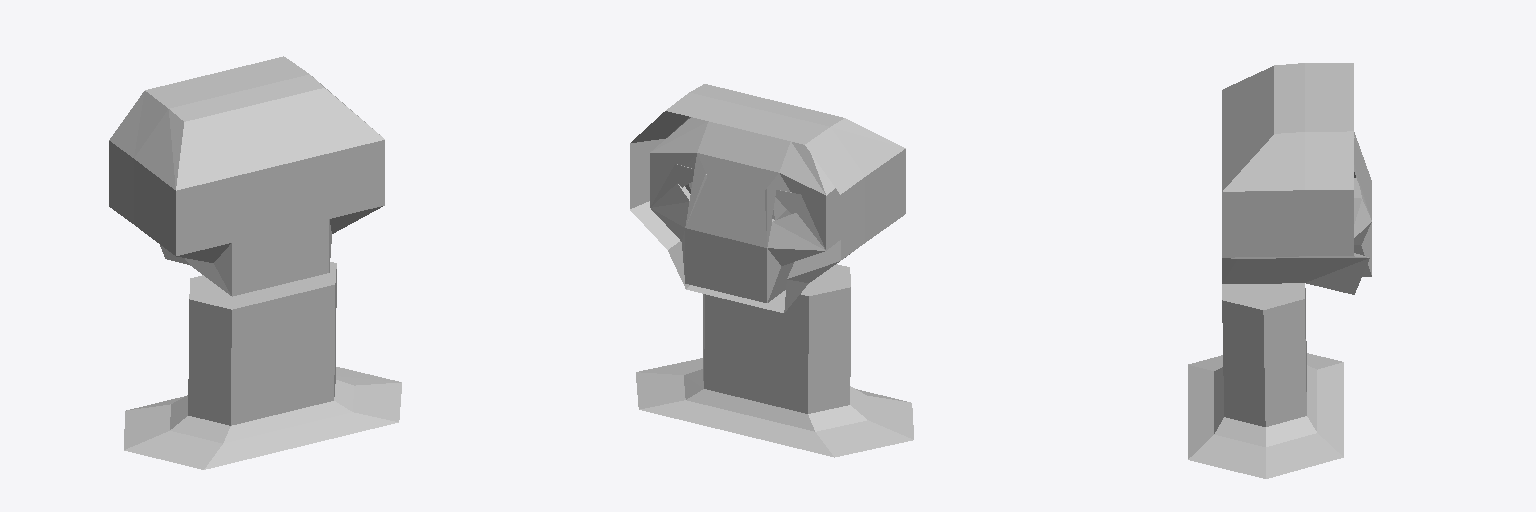
The model's file is Player.obj.
3 renders of one model, left to right at view 1: azimuth 30°, elevation 25°; view 2: azimuth 150°, elevation 25°; view 3: azimuth 270°, elevation 25°, orthographic.
Parts seen in each view (by area): view 1: Lich_Cube.035; view 2: Lich_Cube.035; view 3: Lich_Cube.035.
Part boxes in pixels (left/top/right/bottom): Lich_Cube.035: left=109, top=56, right=401, bottom=469; Lich_Cube.035: left=630, top=84, right=913, bottom=457; Lich_Cube.035: left=1188, top=63, right=1371, bottom=478.
Bounding box in the file's own units: 1.76 × 1.88 × 1.